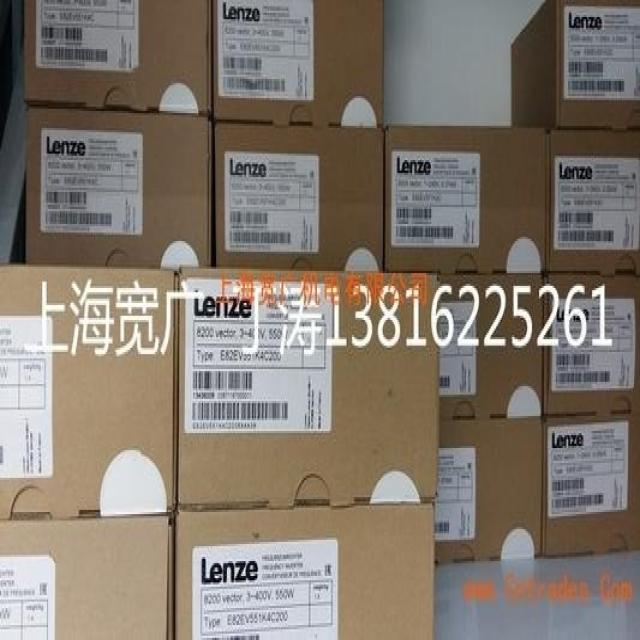box: (177, 267, 439, 510), (0, 262, 179, 521), (175, 503, 435, 640), (26, 105, 211, 271), (214, 122, 384, 273), (383, 124, 546, 275), (0, 510, 175, 640), (211, 0, 384, 126), (24, 0, 211, 115), (512, 0, 640, 130), (438, 273, 544, 420), (435, 420, 543, 563), (543, 412, 640, 559), (546, 128, 640, 275), (543, 273, 640, 414)
